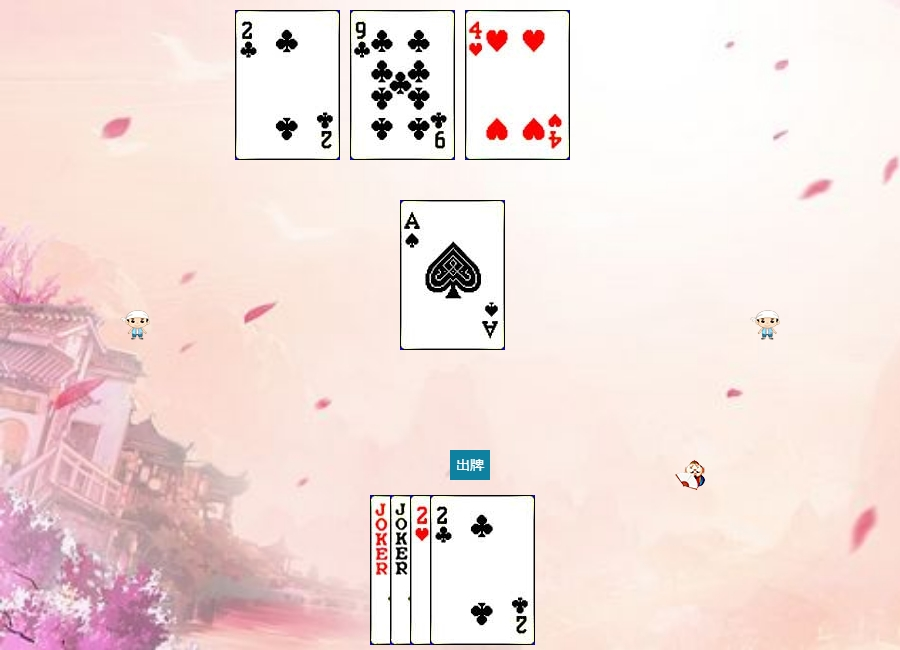14~4: (400, 200, 505, 350)
15~2: (235, 10, 340, 160), (430, 495, 535, 645)
15~3: (410, 495, 515, 645)
17~3: (390, 495, 495, 645)
18~4: (370, 495, 475, 645)
4~3: (465, 10, 570, 160)
9~2: (350, 10, 455, 160)
